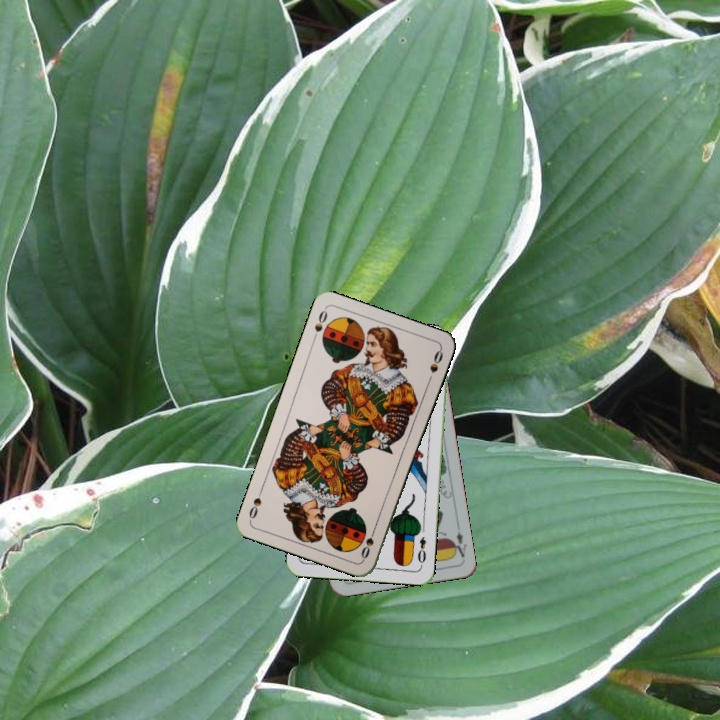EA: (448, 521, 469, 560)
EO: (414, 533, 429, 569)
SO: (357, 523, 379, 561), (308, 306, 330, 344)
